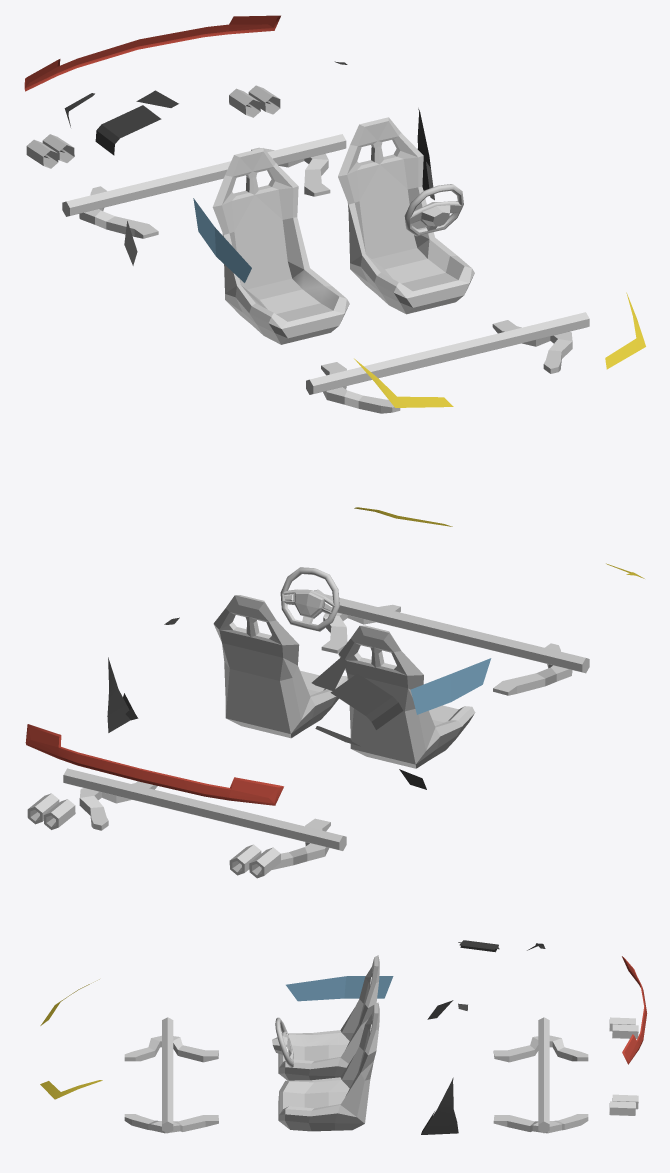
File: VehicleLambo.fbx
The picture shows the model from 3 angles, top to bottom: view 1: azimuth 30°, elevation 25°; view 2: azimuth 150°, elevation 25°; view 3: azimuth 270°, elevation 25°; orthographic projection. The views are drawn at different scales.
Visible parts, largest first — view 1: SM_Veh_Exotic_01, SM_Veh_Exotic_01_Rear_Bumper_01_Exhaust, SM_Veh_Exotic_01_SteeringW, SM_Veh_Exotic_01_Door_R; view 2: SM_Veh_Exotic_01, SM_Veh_Exotic_01_Rear_Bumper_01_Exhaust, SM_Veh_Exotic_01_SteeringW, SM_Veh_Exotic_01_Door_R; view 3: SM_Veh_Exotic_01, SM_Veh_Exotic_01_Door_R, SM_Veh_Exotic_01_Rear_Bumper_01_Exhaust, SM_Veh_Exotic_01_SteeringW.
Boxes of the visible parts, x1=… form: SM_Veh_Exotic_01: x1=24, y1=15, x2=645, y2=413; SM_Veh_Exotic_01_Rear_Bumper_01_Exhaust: x1=26, y1=85, x2=280, y2=168; SM_Veh_Exotic_01_SteeringW: x1=404, y1=184, x2=463, y2=236; SM_Veh_Exotic_01_Door_R: x1=193, y1=198, x2=251, y2=282; SM_Veh_Exotic_01: x1=25, y1=507, x2=644, y2=869; SM_Veh_Exotic_01_Rear_Bumper_01_Exhaust: x1=27, y1=793, x2=280, y2=878; SM_Veh_Exotic_01_SteeringW: x1=280, y1=567, x2=339, y2=631; SM_Veh_Exotic_01_Door_R: x1=410, y1=658, x2=491, y2=714; SM_Veh_Exotic_01: x1=40, y1=940, x2=647, y2=1134; SM_Veh_Exotic_01_Door_R: x1=286, y1=976, x2=393, y2=1001; SM_Veh_Exotic_01_Rear_Bumper_01_Exhaust: x1=609, y1=1017, x2=638, y2=1115; SM_Veh_Exotic_01_SteeringW: x1=272, y1=1017, x2=293, y2=1067.
Size of the model in its own units: 269 by 131 by 532.
